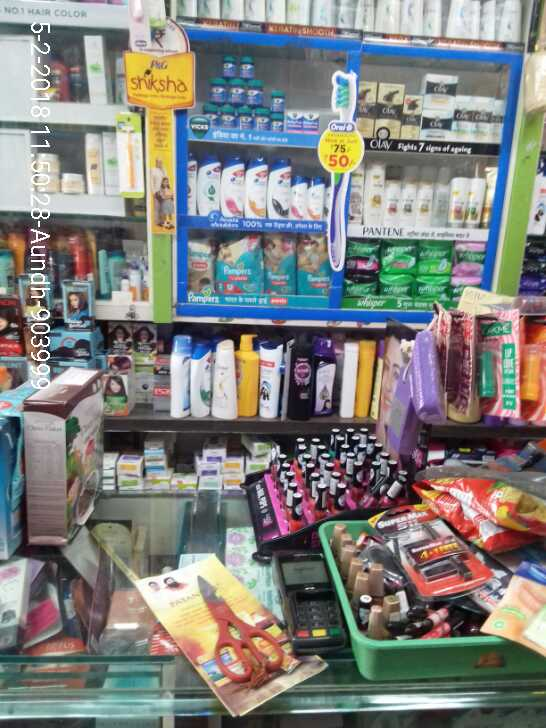vicks: (201, 41, 321, 139)
